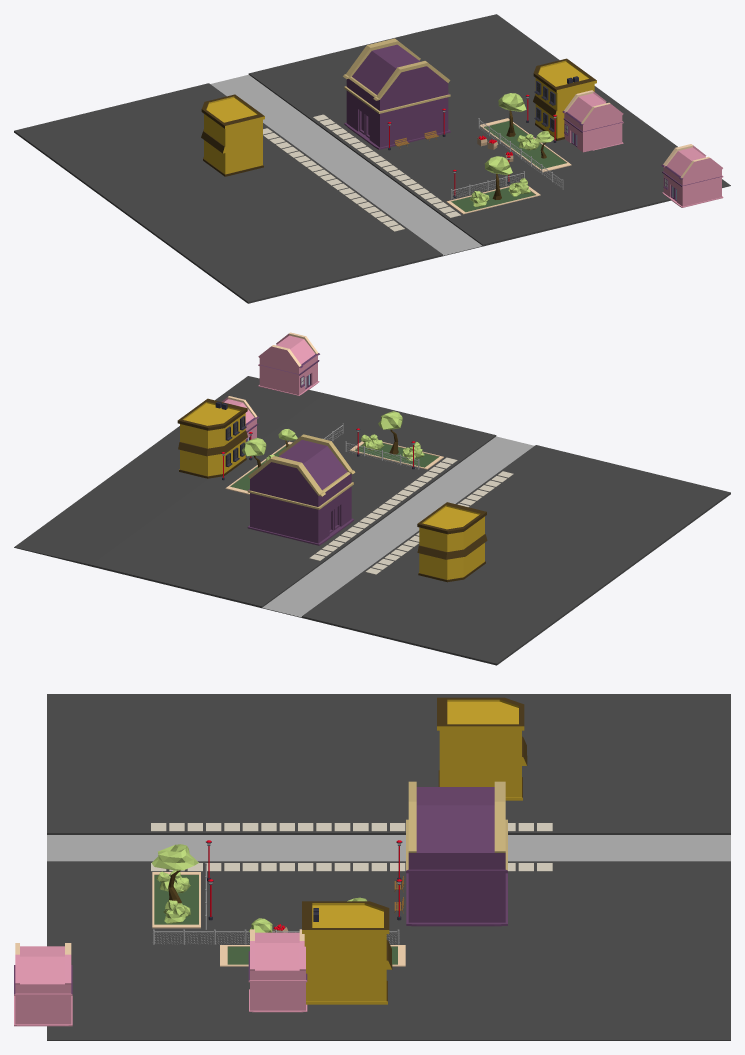
File: fireworks.fbx
3 views of the same model, one above another, from view 1: azimuth 30°, elevation 25°; view 2: azimuth 150°, elevation 25°; view 3: azimuth 270°, elevation 25° (orthographic). The views are drawn at different scales.
Visible parts, largest first — view 1: Cube.004, Cube.015, Cube, Cube.012, Cube.009, Cube.033, Cube.018, Cube.013, Cube.031, Cube.002; view 2: Cube.004, Cube.015, Cube, Cube.012, Cube.009, Cube.018; view 3: Cube.004, Cube, Cube.015, Cube.012, Cube.009, Cube.018, Cube.031, Cube.033, Plane.005.
Boxes of the visible parts, x1,y1,x2,y2 form: Cube.004: (14, 14, 730, 303); Cube.015: (343, 38, 450, 149); Cube: (201, 58, 596, 176); Cube.012: (562, 90, 723, 207); Cube.009: (263, 114, 460, 231); Cube.033: (480, 118, 571, 172); Cube.018: (446, 186, 540, 214); Cube.013: (498, 93, 526, 136); Cube.031: (484, 156, 512, 199); Cube.002: (534, 81, 555, 131); Cube.004: (14, 376, 730, 665); Cube.015: (247, 434, 355, 545); Cube: (177, 398, 487, 582); Cube.012: (222, 332, 319, 441); Cube.009: (309, 457, 513, 574); Cube.018: (349, 441, 443, 469); Cube.004: (47, 694, 730, 1040); Cube: (302, 697, 527, 1004); Cube.015: (406, 781, 507, 926); Cube.012: (14, 929, 307, 1026); Cube.009: (151, 823, 552, 871); Cube.018: (152, 872, 200, 928); Cube.031: (152, 844, 198, 903); Cube.033: (220, 945, 405, 966); Plane.005: (153, 929, 276, 944).
Size of the model in its own units: 10370 by 1596 by 9129.
